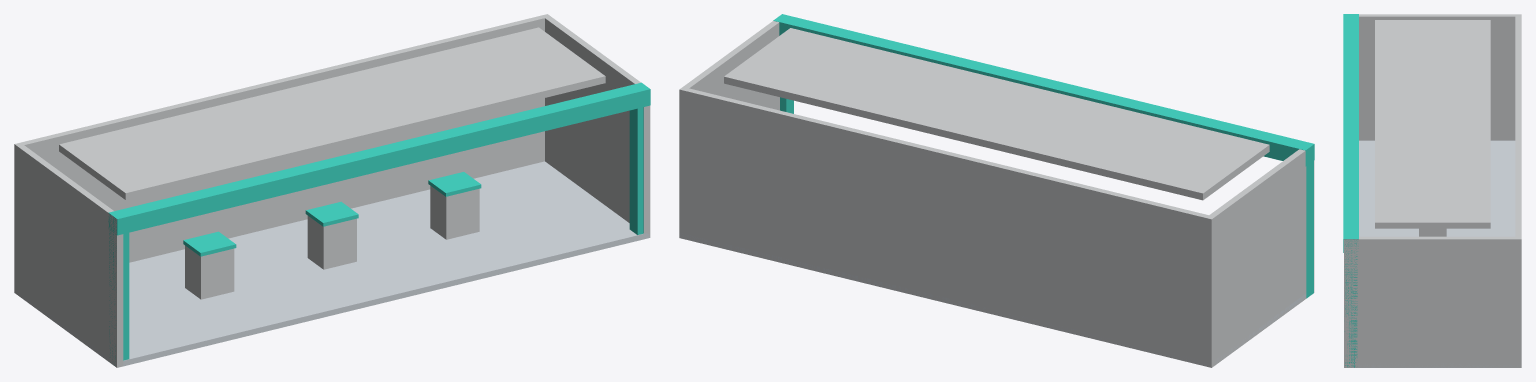
3 views of the same model, side by side, from view 1: azimuth 30°, elevation 25°; view 2: azimuth 150°, elevation 25°; view 3: azimuth 270°, elevation 25° (orthographic). The views are drawn at different scales.
Visible parts, largest first — view 1: Exhibition Booth Concept; view 2: Exhibition Booth Concept; view 3: Exhibition Booth Concept.
Part boxes in pixels (x1=…): Exhibition Booth Concept: x1=14, y1=14, x2=650, y2=367; Exhibition Booth Concept: x1=679, y1=14, x2=1314, y2=367; Exhibition Booth Concept: x1=1343, y1=14, x2=1521, y2=367.
Size of the model in its own units: 12 by 3.34 by 4.02.
